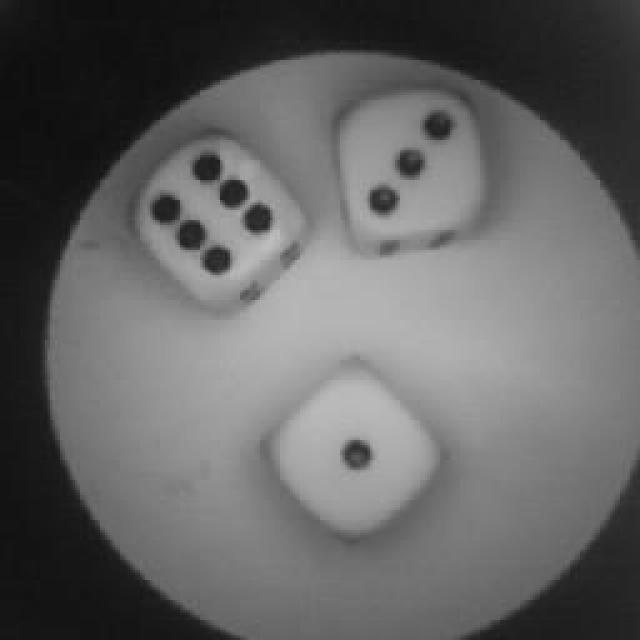dice_1: (275, 367, 443, 535)
dice_3: (332, 83, 492, 245)
dice_6: (142, 132, 308, 310)
